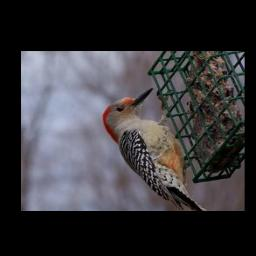Woodpecker: (102, 89, 201, 210)
